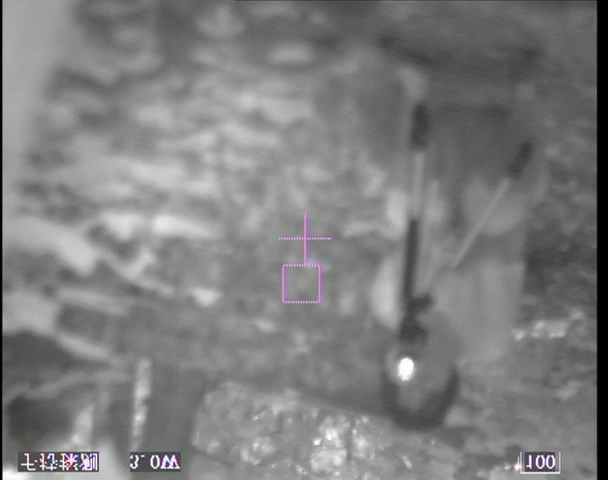my: (396, 357, 416, 381)
